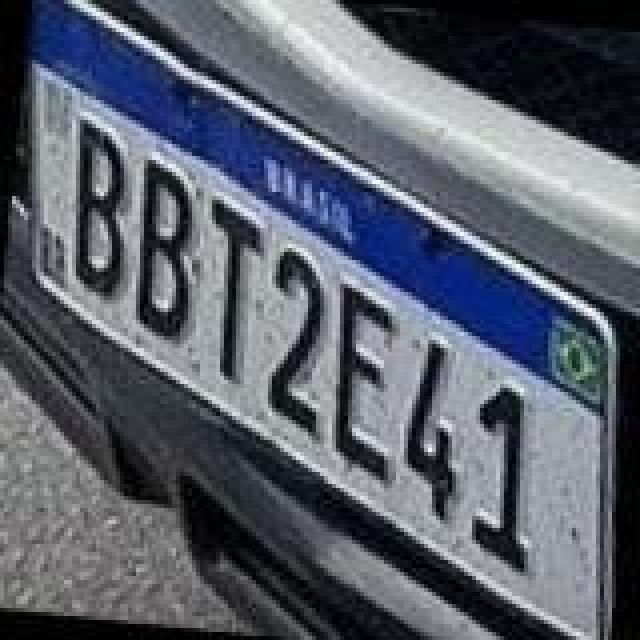1: (458, 376, 550, 576)
2: (254, 242, 338, 438)
4: (392, 336, 472, 528)
B: (58, 114, 142, 302), (126, 154, 210, 342)
E: (318, 282, 410, 486)
T: (190, 190, 274, 386)
